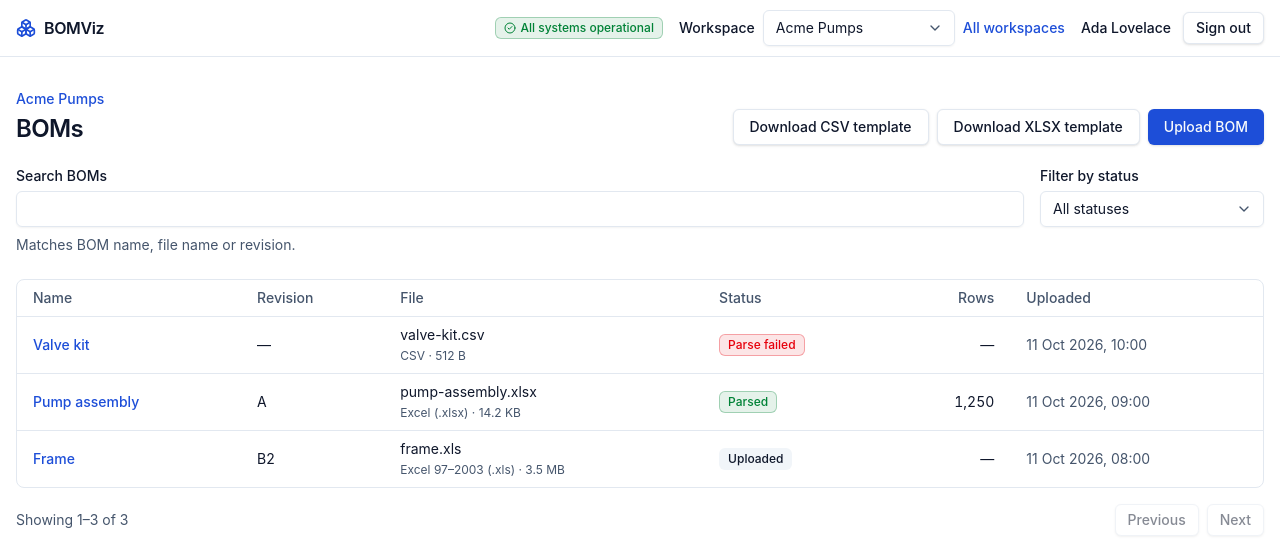
BomsPage list › debounces the search box into the q URL parameter
Type "valve" into the search field labelled "Search BOMs" at {"x": 520, "y": 209}, box [16, 191, 1024, 227]
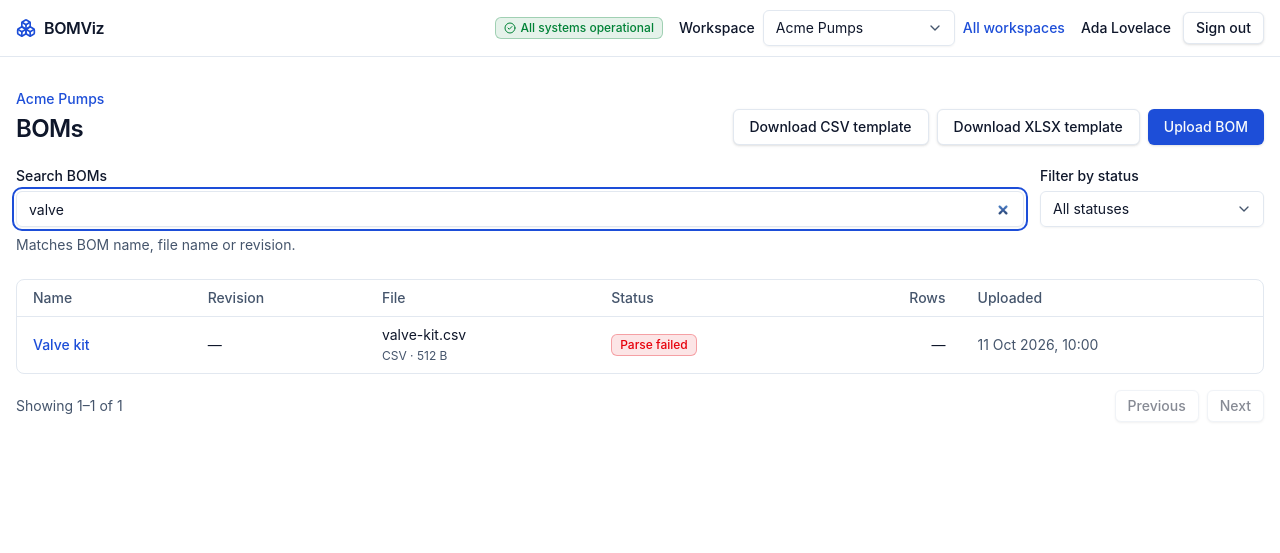
Expected: the link "Valve kit" is shown, [33, 336, 90, 353]
Result: the link "Pump assembly" is gone
